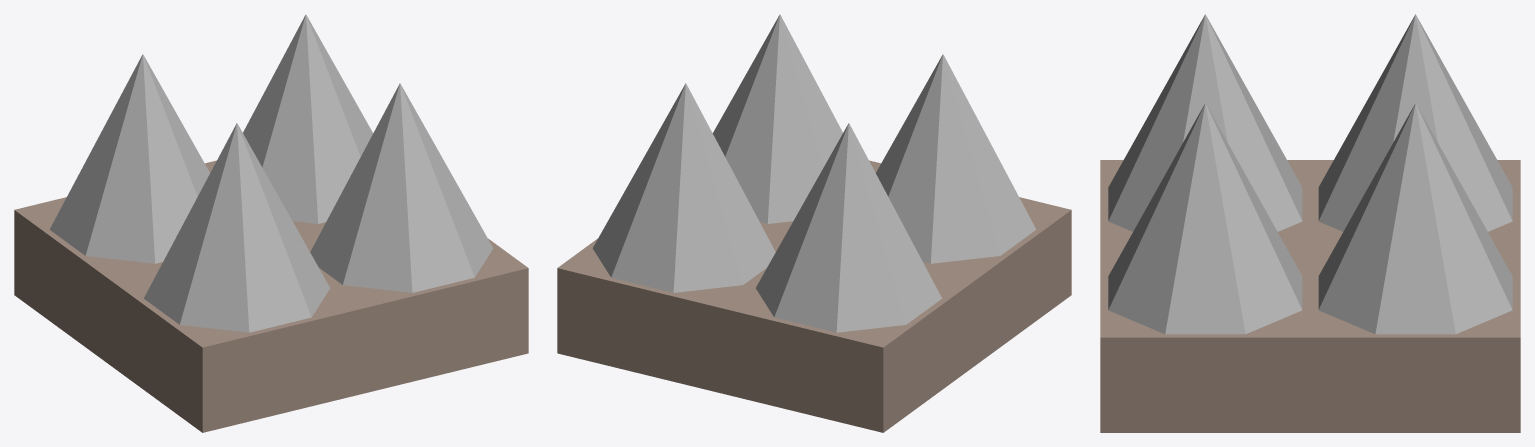
The model's file is Spikes.fbx.
3 views of the same model, side by side, from view 1: azimuth 30°, elevation 25°; view 2: azimuth 150°, elevation 25°; view 3: azimuth 270°, elevation 25° (orthographic). The views are drawn at different scales.
Visible parts, largest first — view 1: Spikes; view 2: Spikes; view 3: Spikes.
Part boxes in pixels (x1,y1,x2,y2): Spikes: [14, 14, 528, 432]; Spikes: [557, 14, 1071, 432]; Spikes: [1100, 14, 1520, 432].
Bounding box in the file's own units: 1 × 1 × 0.75.
